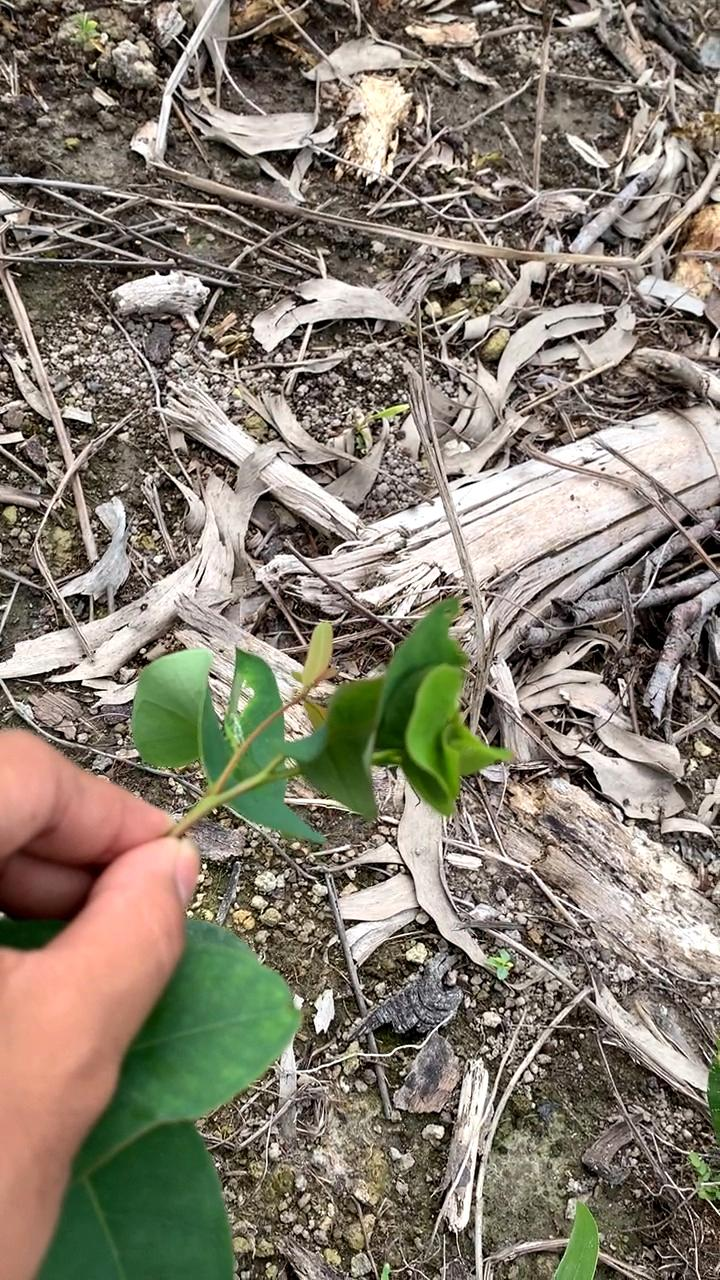Leaf Roller - Leaf: (265, 563, 533, 872)
